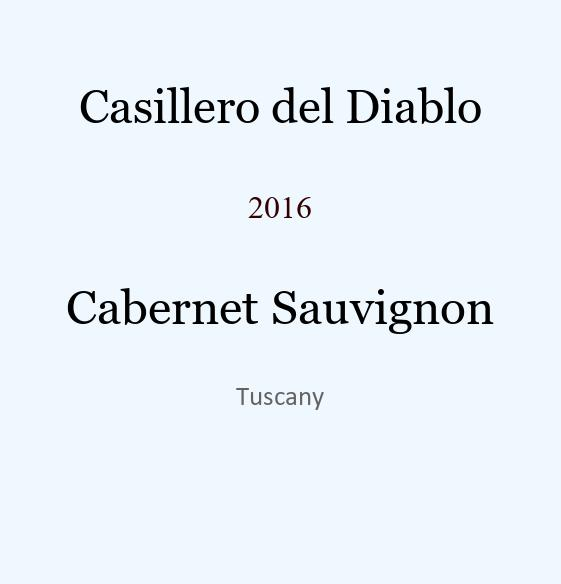brand: (79, 79, 482, 116)
region: (236, 384, 324, 406)
variety: (66, 279, 494, 325)
vintage: (248, 189, 312, 210)
